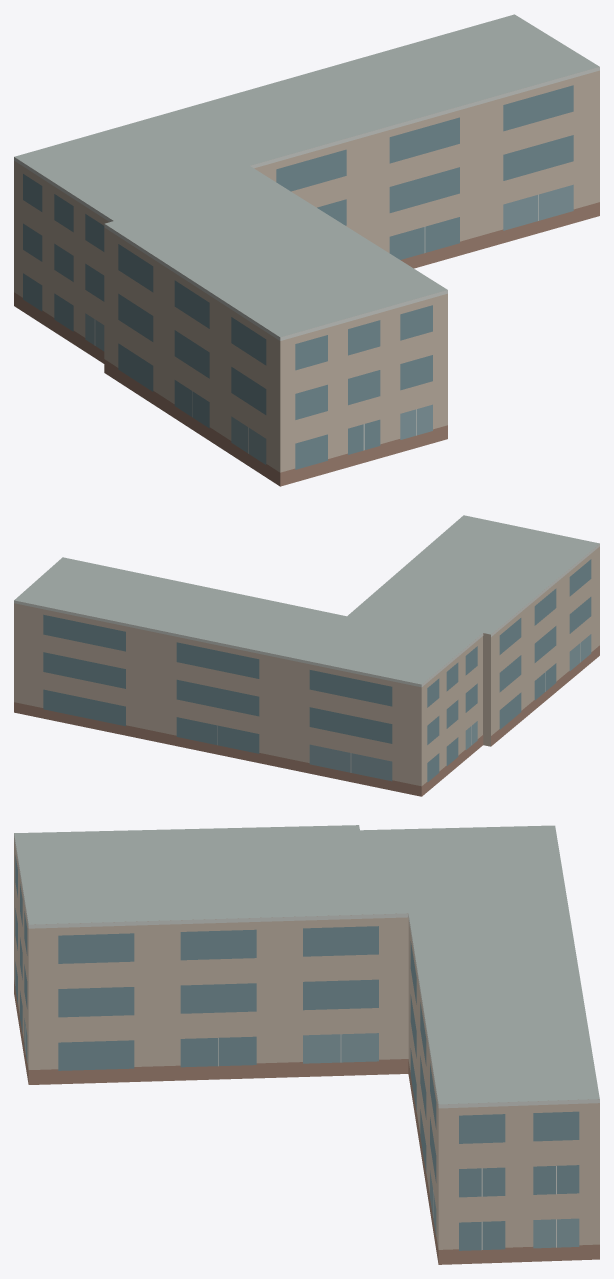
File: survey-upis-32638266.glb
The picture shows the model from 3 angles, top to bottom: view 1: azimuth 30°, elevation 25°; view 2: azimuth 150°, elevation 25°; view 3: azimuth 270°, elevation 25°; orthographic projection. The views are drawn at different scales.
Visible parts, largest first — view 1: survey-upis-32638266.tmp; view 2: survey-upis-32638266.tmp; view 3: survey-upis-32638266.tmp.
Boxes of the visible parts, box(x1,y1,x2,y2) form: survey-upis-32638266.tmp: box(14, 14, 599, 486); survey-upis-32638266.tmp: box(14, 515, 599, 796); survey-upis-32638266.tmp: box(14, 825, 599, 1264).
Size of the model in its own units: 36.24 by 9.7 by 32.11.
